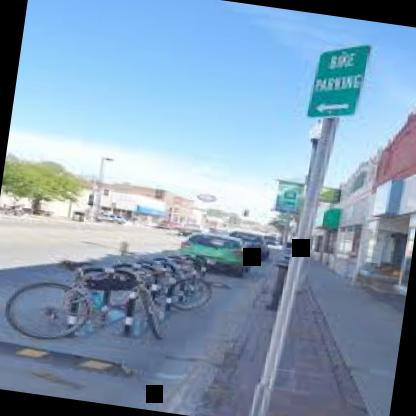car: (164, 220, 264, 280), (218, 217, 278, 261)
